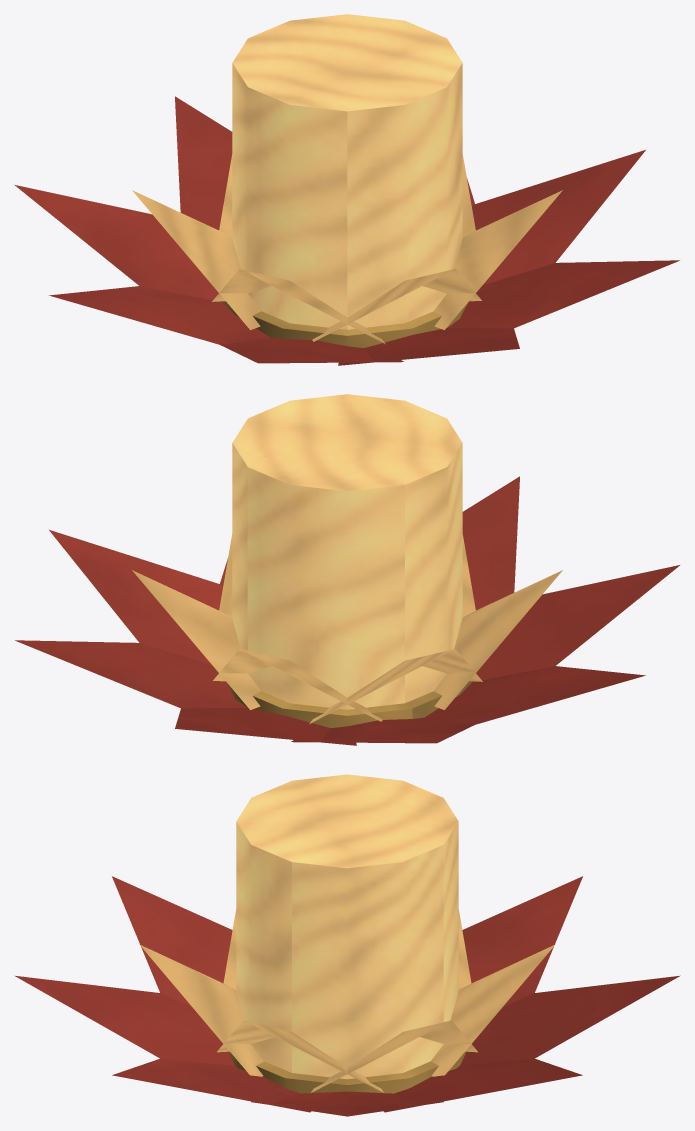
The model's file is model-river-lantern-lotus.glb.
The picture shows the model from 3 angles, top to bottom: view 1: azimuth 30°, elevation 25°; view 2: azimuth 150°, elevation 25°; view 3: azimuth 270°, elevation 25°; orthographic projection. The views are drawn at different scales.
Parts seen in each view (by area): view 1: model-river-lantern-lotus; view 2: model-river-lantern-lotus; view 3: model-river-lantern-lotus.
Boxes of the visible parts, box(x1,y1,x2,y2) form: model-river-lantern-lotus: box(15, 14, 679, 365); model-river-lantern-lotus: box(15, 394, 679, 745); model-river-lantern-lotus: box(14, 774, 680, 1116).
Size of the model in its own units: 0.96 by 0.405 by 0.96.
Materials: 4 (4 with a texture image).
